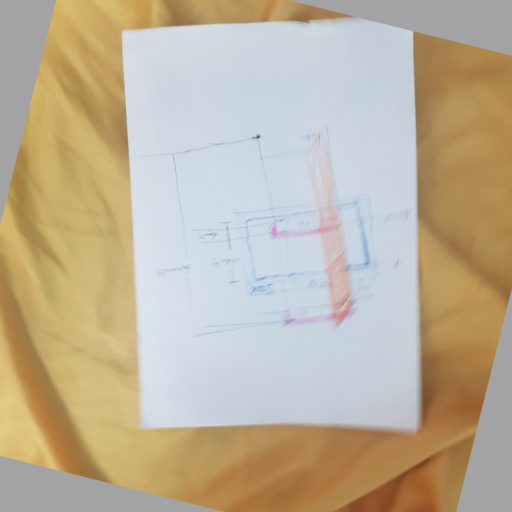Paper_2: (118, 14, 439, 452)
